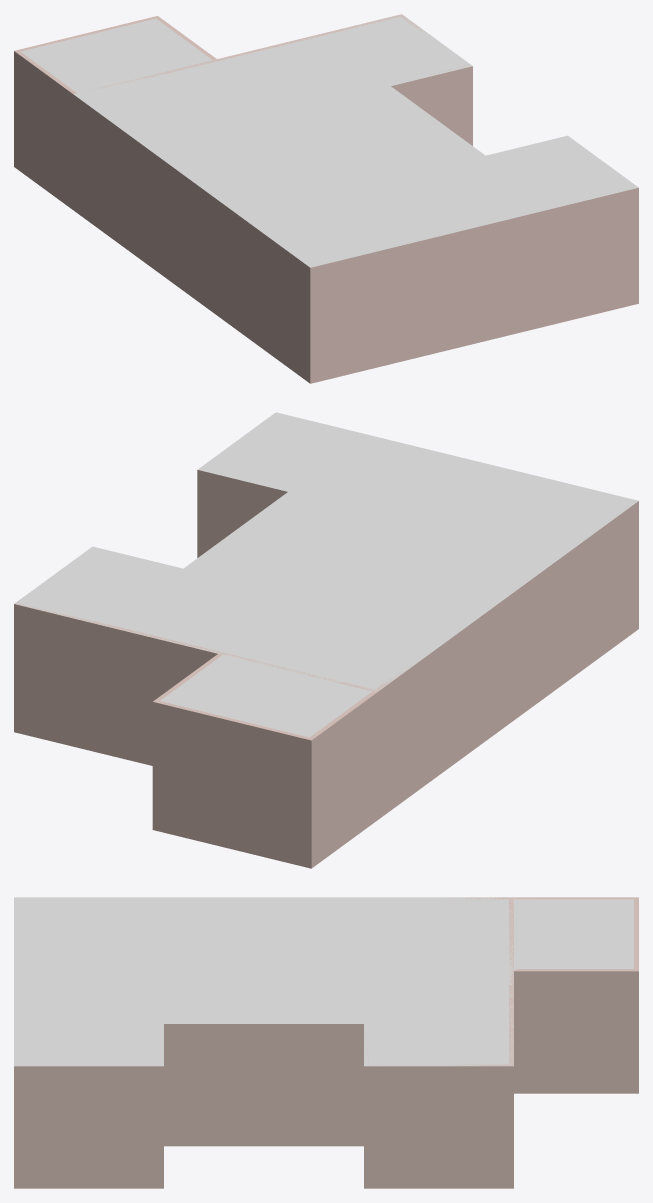
Rendered from RoomLayout.fbx.
The picture shows the model from 3 angles, top to bottom: view 1: azimuth 30°, elevation 25°; view 2: azimuth 150°, elevation 25°; view 3: azimuth 270°, elevation 25°; orthographic projection. The views are drawn at different scales.
Parts seen in each view (by area): view 1: Main Room, Main Room Ceiling, Spawn Room, Spawn Room Ceiling; view 2: Main Room Ceiling, Main Room, Spawn Room, Spawn Room Ceiling; view 3: Main Room Ceiling, Main Room, Spawn Room, Spawn Room Ceiling.
Boxes of the visible parts, <box> form: Main Room: <box>73,14,638,383</box>; Main Room Ceiling: <box>74,14,638,267</box>; Spawn Room: <box>14,16,216,209</box>; Spawn Room Ceiling: <box>21,18,212,92</box>; Main Room Ceiling: <box>15,412,638,692</box>; Main Room: <box>14,470,638,820</box>; Spawn Room: <box>152,654,376,868</box>; Spawn Room Ceiling: <box>160,655,371,737</box>; Main Room Ceiling: <box>14,897,513,1066</box>; Main Room: <box>14,897,513,1188</box>; Spawn Room: <box>514,897,638,1093</box>; Spawn Room Ceiling: <box>514,897,633,970</box>.
Size of the model in its own units: 8 by 2.7 by 12.5.
